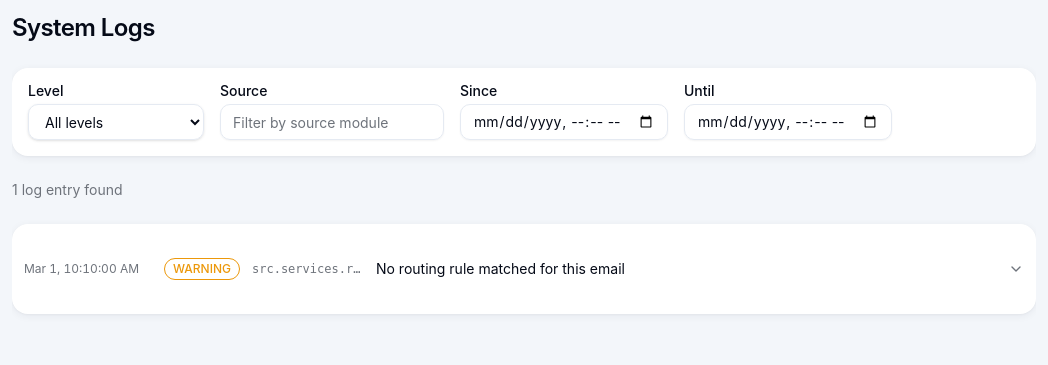
Test: LogsPage › shows 'No additional context' when context is empty and email_id is null
Click the button with aria-label "expand log entry".
click(524, 269)  # box [12, 248, 1036, 290]
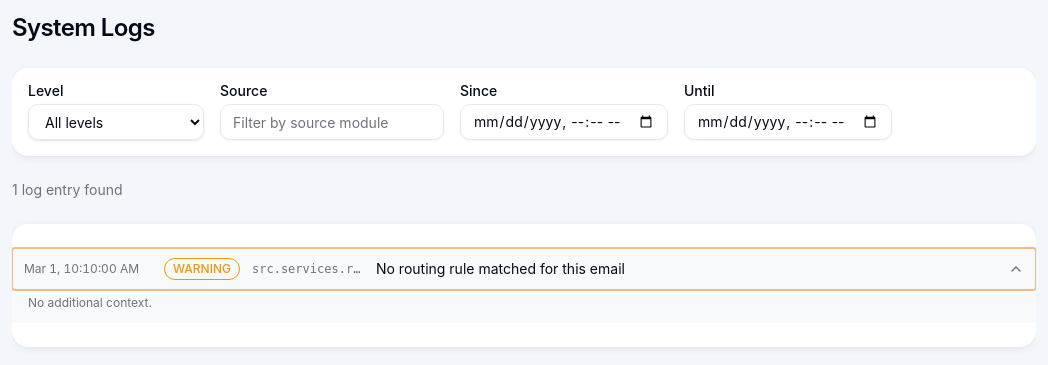
Now the text "No additional context." is shown, box [28, 295, 152, 310]
